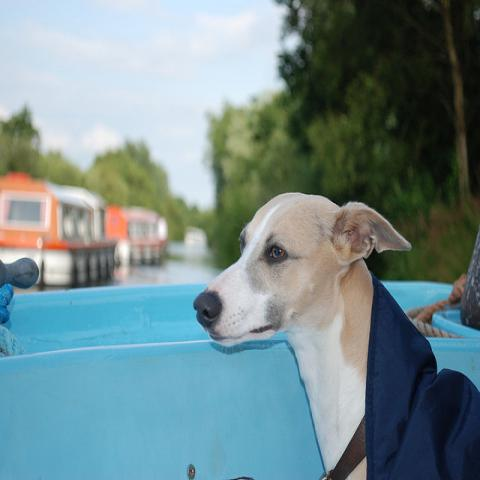bus: (105, 207, 168, 262)
